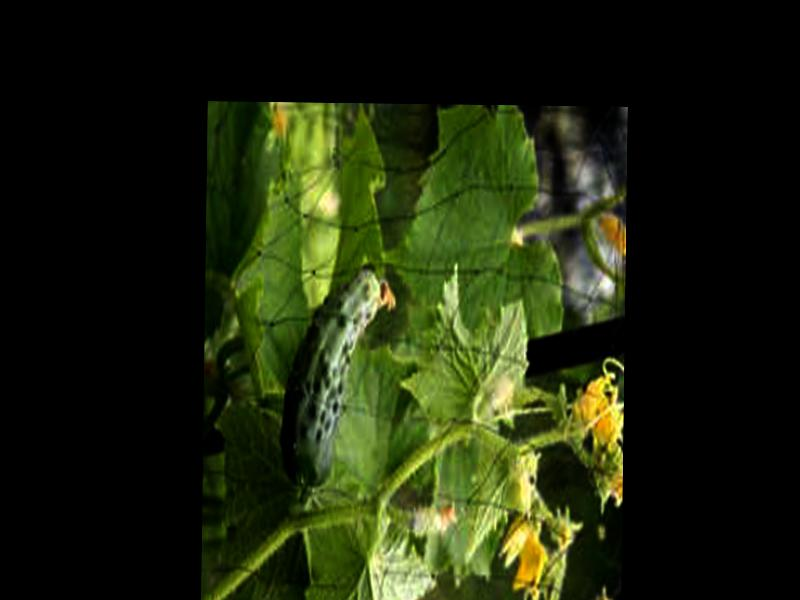Cucumber: (281, 265, 397, 493)
